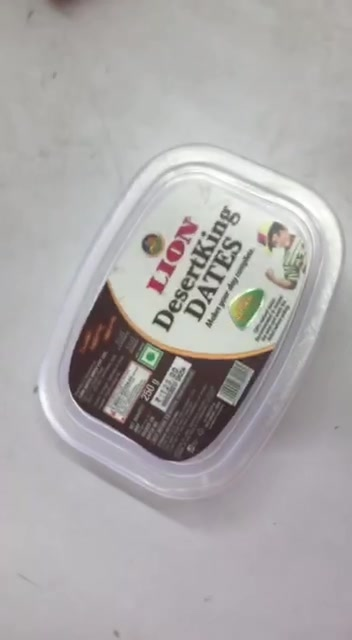Lion dates: (39, 141, 344, 498)
